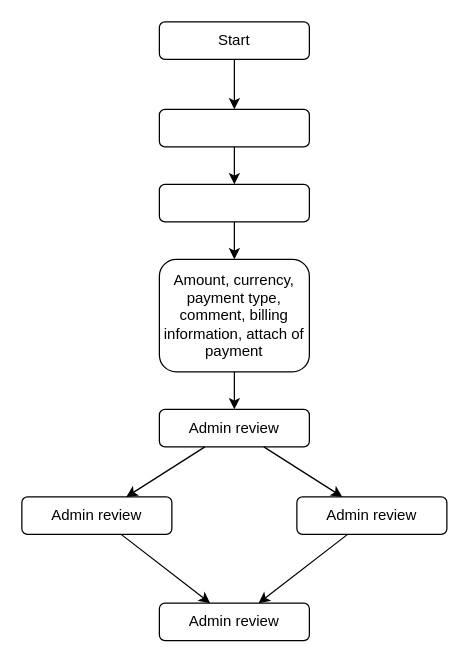
The diagram is 469 pixels wide and 663 high, and some of its shapes have lost their labels. The shapes that lost their labels are listed below. From the top down, each one's centre as x and y in pixels, then its label:
(x=233, y=127): User registration
(x=233, y=202): Complete payment information
